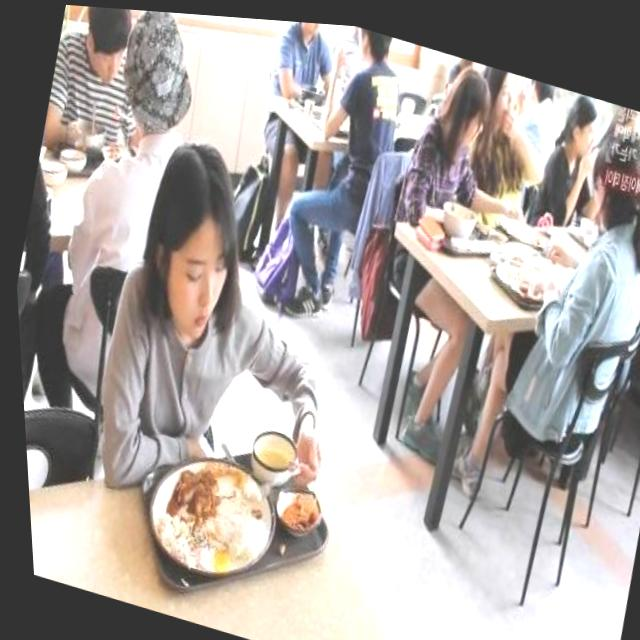eating-person: (32, 68, 418, 636)
